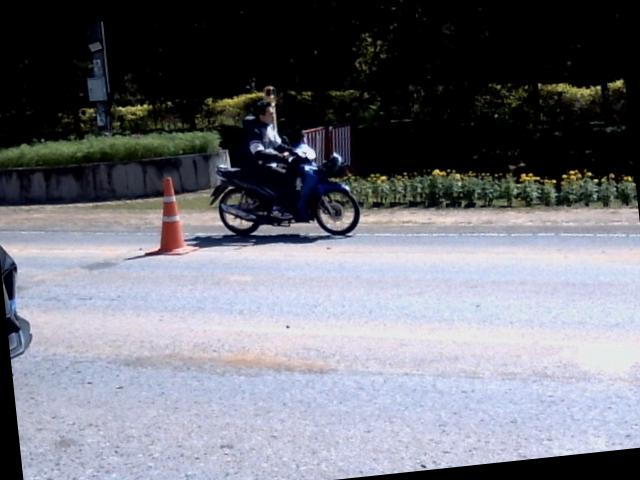motor: (211, 144, 360, 235)
no-helmet: (255, 101, 273, 123)
person: (240, 102, 295, 217)
